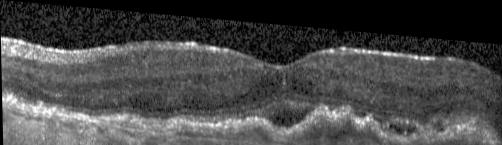neuroepithelium_detachment: (267, 103, 308, 121), (389, 117, 415, 126)
subretinal_hyperreflective_material: (101, 100, 497, 145)
